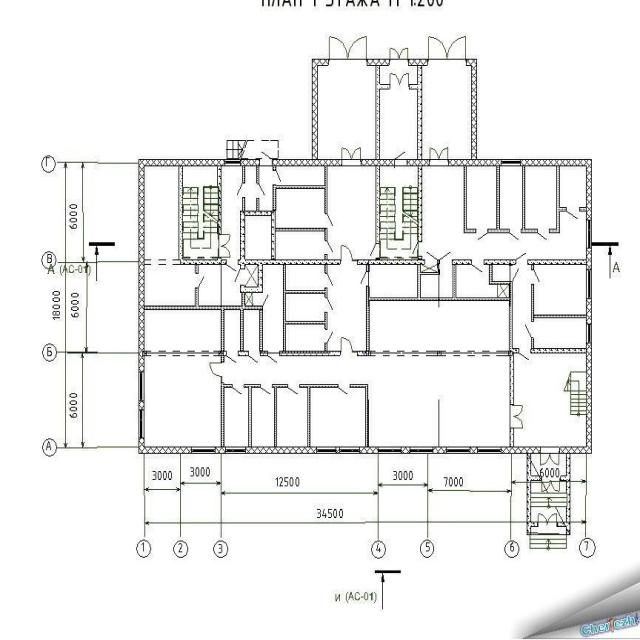Corridors: (422, 166, 586, 259), (318, 65, 375, 159), (422, 65, 471, 158), (515, 354, 563, 446), (329, 166, 375, 259), (225, 356, 369, 384), (328, 265, 366, 351), (380, 89, 417, 158), (221, 167, 242, 259), (199, 265, 240, 305), (264, 265, 283, 351), (512, 265, 531, 348), (456, 265, 497, 298), (287, 295, 324, 320), (286, 325, 323, 350), (277, 166, 324, 185), (287, 266, 324, 290), (532, 454, 566, 476), (381, 66, 417, 84), (224, 311, 240, 350), (244, 311, 259, 350), (260, 166, 272, 210), (246, 166, 256, 210), (421, 274, 438, 297), (441, 264, 452, 297), (494, 265, 509, 281), (253, 294, 259, 305)
Doors: (328, 33, 368, 65), (427, 35, 467, 65), (540, 446, 560, 467), (341, 147, 361, 167), (429, 146, 449, 166), (509, 404, 525, 429), (541, 475, 561, 495), (389, 46, 409, 64), (389, 72, 410, 89), (218, 233, 231, 259), (536, 512, 557, 527), (208, 362, 224, 379), (340, 336, 353, 356), (340, 244, 353, 264), (393, 151, 408, 167), (565, 207, 580, 222), (260, 149, 272, 167), (471, 259, 485, 274), (234, 268, 245, 286), (510, 264, 521, 282), (267, 350, 281, 364), (425, 249, 438, 264), (368, 243, 380, 259), (248, 351, 261, 365), (226, 259, 239, 273), (508, 228, 521, 242), (411, 240, 421, 258), (537, 228, 549, 243), (514, 251, 529, 263), (524, 320, 534, 338), (256, 183, 267, 199), (359, 271, 370, 287), (440, 250, 453, 263), (337, 384, 350, 397), (260, 384, 273, 397), (519, 348, 531, 362), (325, 329, 336, 344), (325, 213, 335, 229), (325, 240, 335, 256), (325, 296, 335, 312), (325, 273, 335, 289), (226, 351, 238, 364), (475, 229, 488, 241), (232, 384, 244, 397), (195, 273, 206, 287), (273, 170, 283, 185), (260, 292, 270, 307), (236, 183, 245, 198), (287, 384, 299, 395), (532, 270, 541, 284)
LBwalls: (138, 158, 225, 372), (237, 210, 341, 293), (531, 343, 593, 454), (521, 159, 592, 221), (311, 58, 330, 159), (466, 58, 478, 160), (138, 438, 192, 454), (246, 447, 317, 454), (272, 159, 342, 166), (417, 65, 422, 159), (357, 259, 425, 265), (528, 259, 586, 265), (448, 160, 501, 166), (501, 446, 540, 454), (279, 351, 341, 356), (180, 259, 226, 265), (218, 166, 222, 234), (361, 159, 394, 166), (366, 58, 390, 66), (484, 259, 516, 265), (407, 159, 430, 166), (586, 298, 592, 324), (408, 59, 428, 66), (360, 447, 378, 454), (452, 259, 472, 265), (241, 159, 260, 165), (433, 447, 447, 454), (215, 446, 226, 454), (357, 350, 371, 356), (401, 446, 410, 454), (238, 350, 249, 356), (470, 446, 478, 454), (218, 351, 227, 356), (139, 401, 144, 409), (260, 351, 268, 356)
Offices: (370, 301, 510, 446), (145, 310, 220, 446), (145, 166, 195, 306), (311, 388, 365, 447), (535, 265, 586, 314), (526, 166, 556, 228), (276, 189, 324, 226), (277, 388, 307, 446), (468, 166, 496, 228), (534, 319, 585, 348), (370, 267, 417, 298), (251, 388, 274, 447), (224, 389, 247, 446), (275, 232, 324, 258), (502, 166, 522, 229), (561, 166, 586, 206)
Stairs: (380, 166, 417, 258), (183, 166, 217, 259), (563, 353, 586, 448), (532, 482, 566, 522), (225, 139, 279, 159), (530, 527, 567, 551)
Walls: (365, 258, 519, 405), (144, 287, 263, 352), (282, 265, 328, 352), (272, 165, 328, 215), (298, 384, 339, 447), (531, 283, 586, 323), (487, 165, 510, 234), (375, 65, 391, 159), (548, 166, 567, 234), (349, 383, 369, 447), (520, 166, 538, 234), (527, 454, 542, 534), (556, 453, 570, 535), (271, 384, 289, 447), (244, 384, 262, 447), (464, 166, 477, 233), (220, 382, 233, 447), (275, 228, 328, 242), (417, 166, 423, 243), (375, 166, 380, 244), (179, 166, 183, 258), (510, 428, 514, 447), (242, 166, 245, 185), (256, 197, 260, 211), (256, 166, 259, 183), (438, 273, 440, 298), (242, 197, 245, 211), (409, 84, 417, 89), (220, 356, 225, 363), (580, 207, 587, 212), (531, 337, 534, 348), (366, 265, 370, 273), (195, 264, 198, 274), (325, 265, 328, 274), (325, 343, 328, 351), (352, 350, 358, 354), (273, 165, 277, 171), (325, 253, 328, 260), (220, 376, 223, 383)
Windows: (191, 446, 216, 454), (446, 446, 470, 454), (477, 447, 502, 454), (138, 409, 144, 438), (586, 269, 592, 298), (586, 220, 592, 248), (378, 447, 401, 454), (410, 447, 433, 454), (339, 447, 360, 454), (139, 372, 144, 401), (226, 447, 246, 454), (316, 447, 336, 454), (224, 159, 241, 167), (501, 160, 521, 166), (586, 323, 591, 343)
